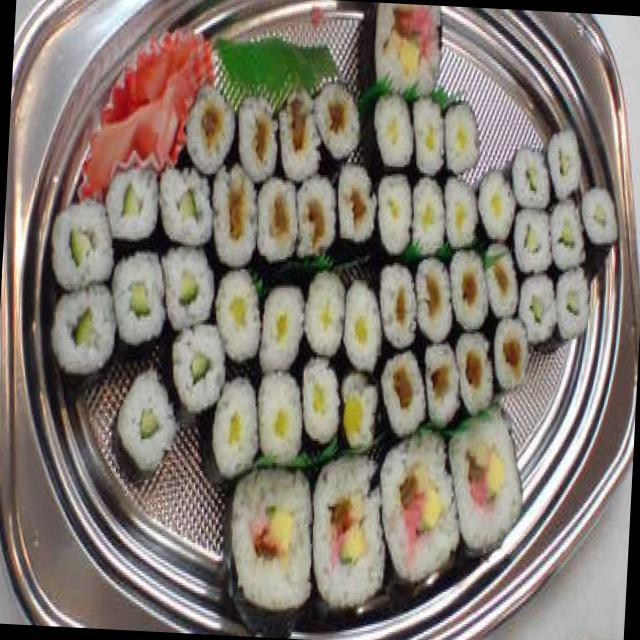Sushi: (63, 160, 623, 640)
